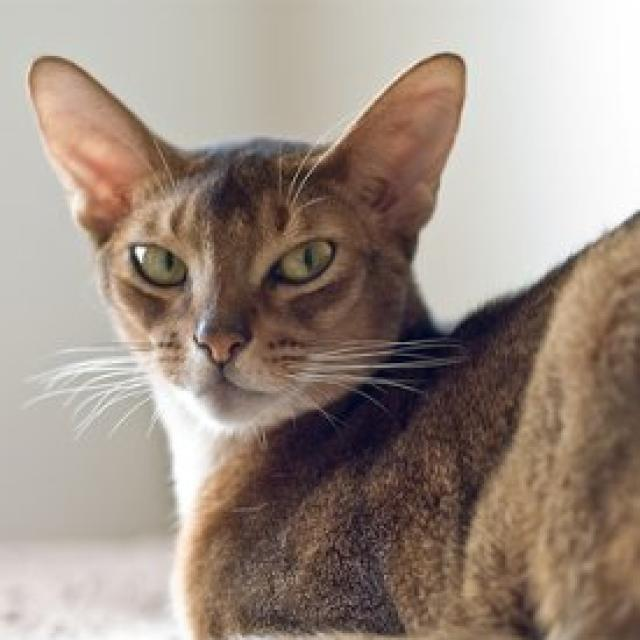Abyssinian: (29, 48, 473, 438)
